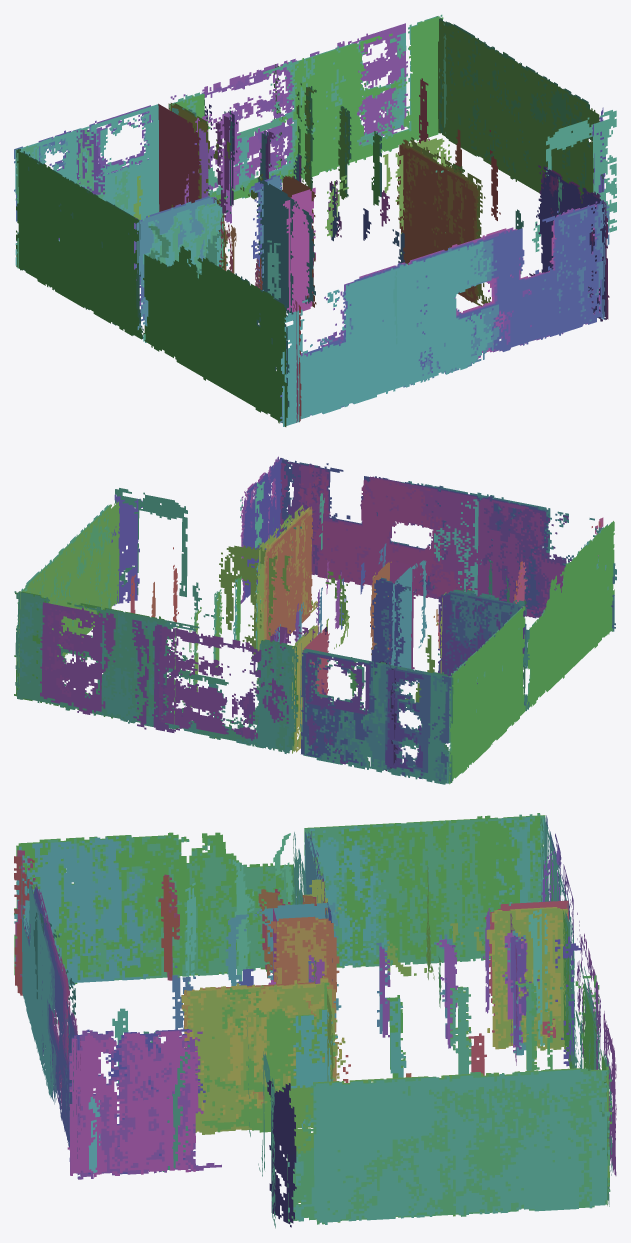
File: magok2-wall.glb
3 views of the same model, one above another, from view 1: azimuth 30°, elevation 25°; view 2: azimuth 150°, elevation 25°; view 3: azimuth 270°, elevation 25° (orthographic). The views are drawn at different scales.
Parts seen in each view (by area): view 1: magok2-wall; view 2: magok2-wall; view 3: magok2-wall.
Boxes of the visible parts, x1,y1,x2,y2 form: magok2-wall: [14, 14, 616, 426]; magok2-wall: [14, 456, 616, 784]; magok2-wall: [14, 813, 616, 1228].
Size of the model in its own units: 6.02 by 1.55 by 5.49.
